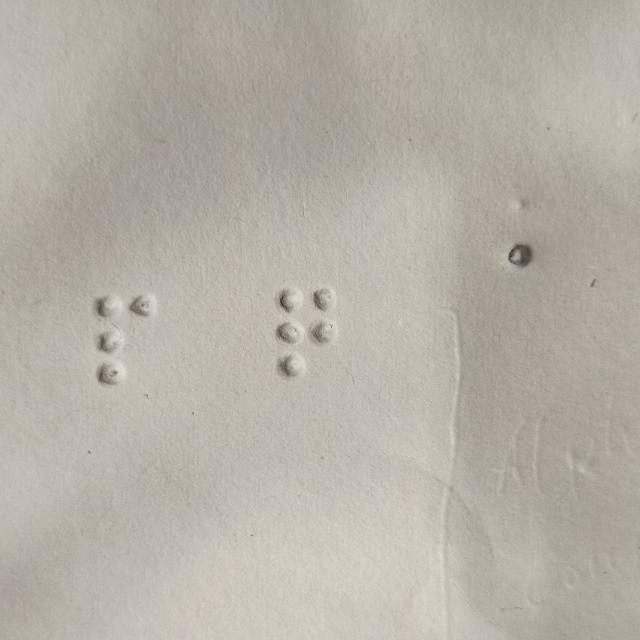one_cell_alphabet_kailan: (269, 285, 339, 381)
one_cell_alphabet_para: (92, 292, 162, 388)
